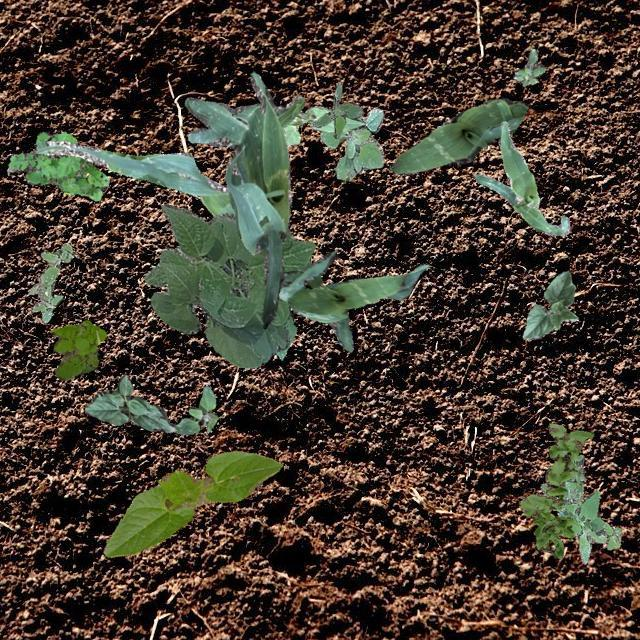crop: (35, 140, 322, 358), (184, 71, 304, 328), (143, 202, 314, 368), (102, 450, 282, 556), (278, 248, 428, 350), (388, 96, 528, 174), (474, 120, 568, 234), (84, 374, 174, 432), (522, 270, 576, 338), (280, 105, 364, 144)
weed: (518, 422, 592, 558), (6, 130, 108, 200), (556, 478, 622, 562), (318, 106, 382, 178), (28, 242, 72, 322), (50, 320, 106, 380), (312, 80, 362, 138), (540, 454, 586, 510), (174, 386, 218, 434), (512, 48, 544, 86)
